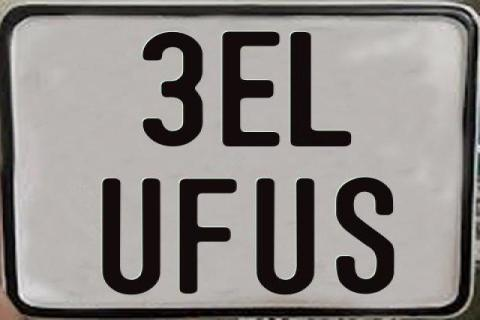0: (142, 30, 203, 150)
E: (220, 31, 281, 149)
F: (179, 176, 240, 294)
L: (288, 31, 349, 147)
S: (334, 177, 393, 299)
U: (101, 178, 164, 298), (256, 178, 321, 294)
